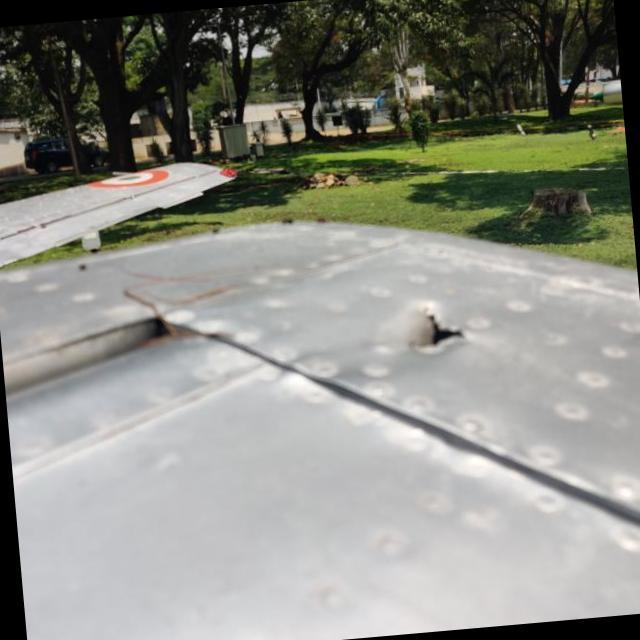Rupture: (391, 294, 478, 364)
